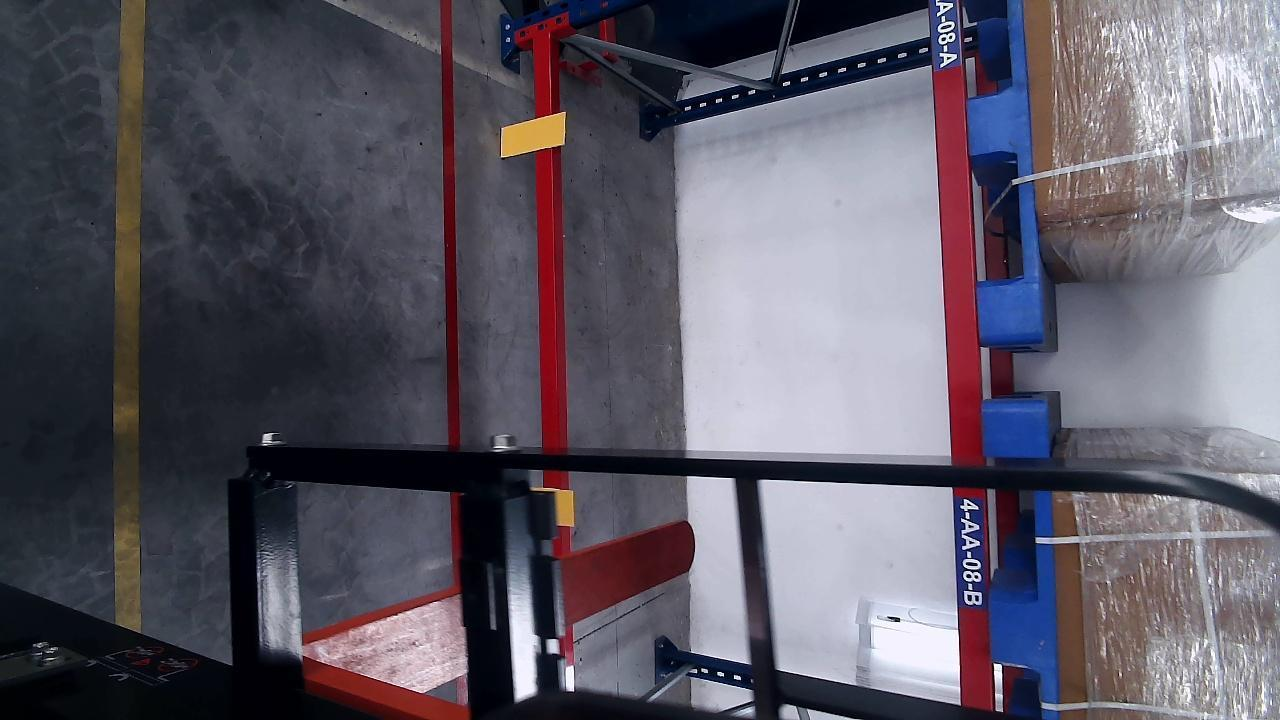red_line: (442, 3, 463, 445)
yellow_line: (115, 0, 146, 634)
